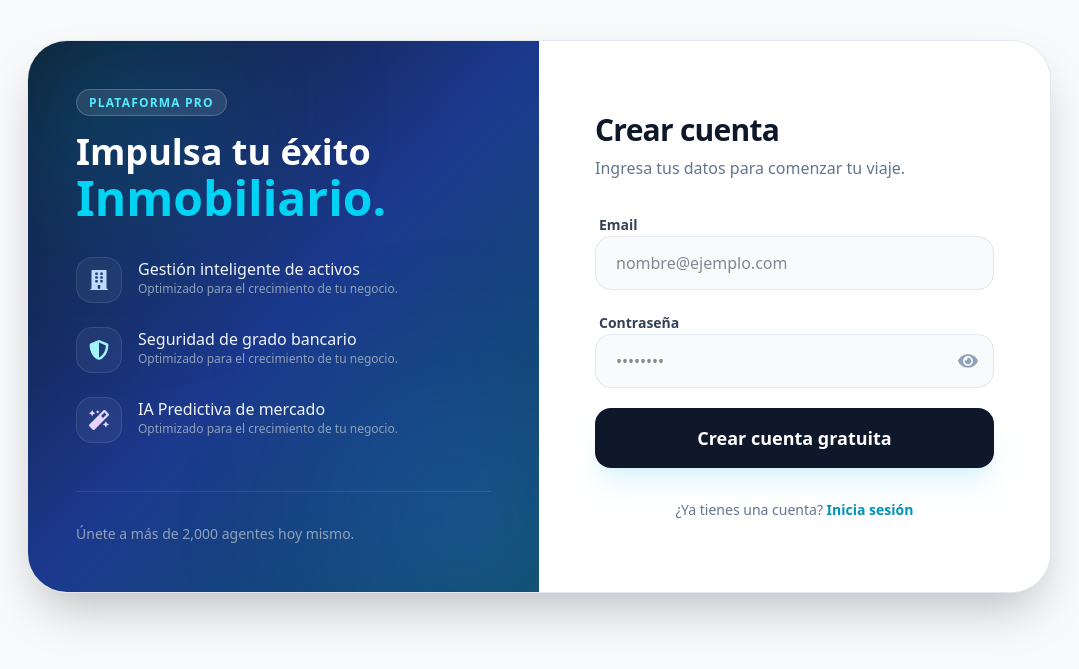
Test: Register Component › debe mostrar error si no viene token
Type "a@a.com" into the field with placeholder "nombre@ejemplo.com". click: point(794, 263)
box: [595,236,994,290]
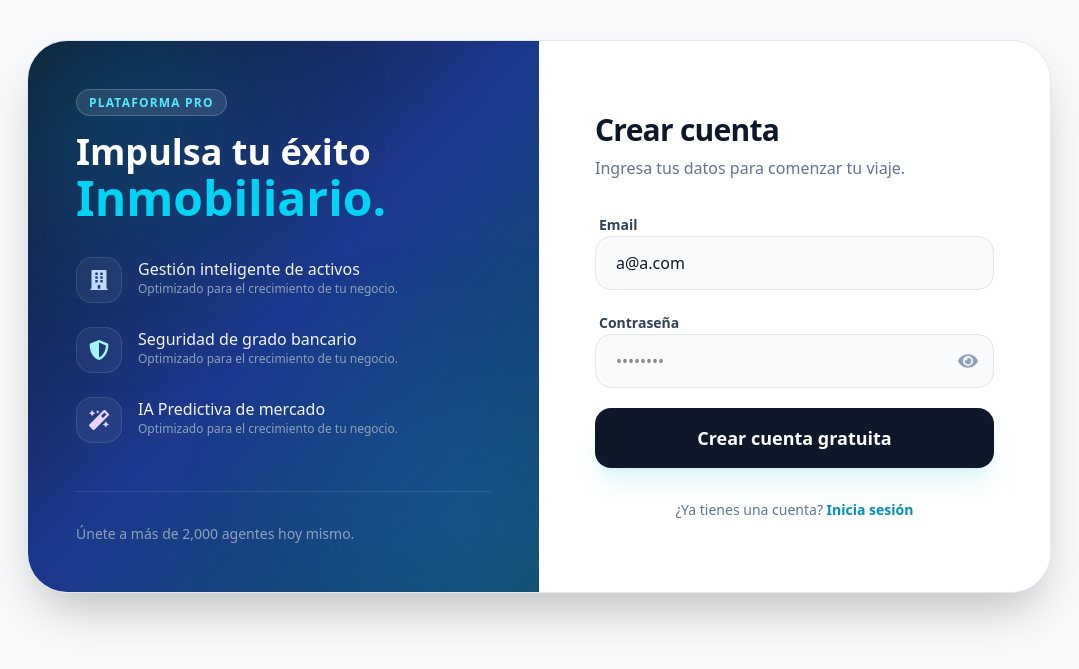
Type "123456" into the password field with placeholder "••••••••". click: point(794, 361)
box: [595,334,994,388]
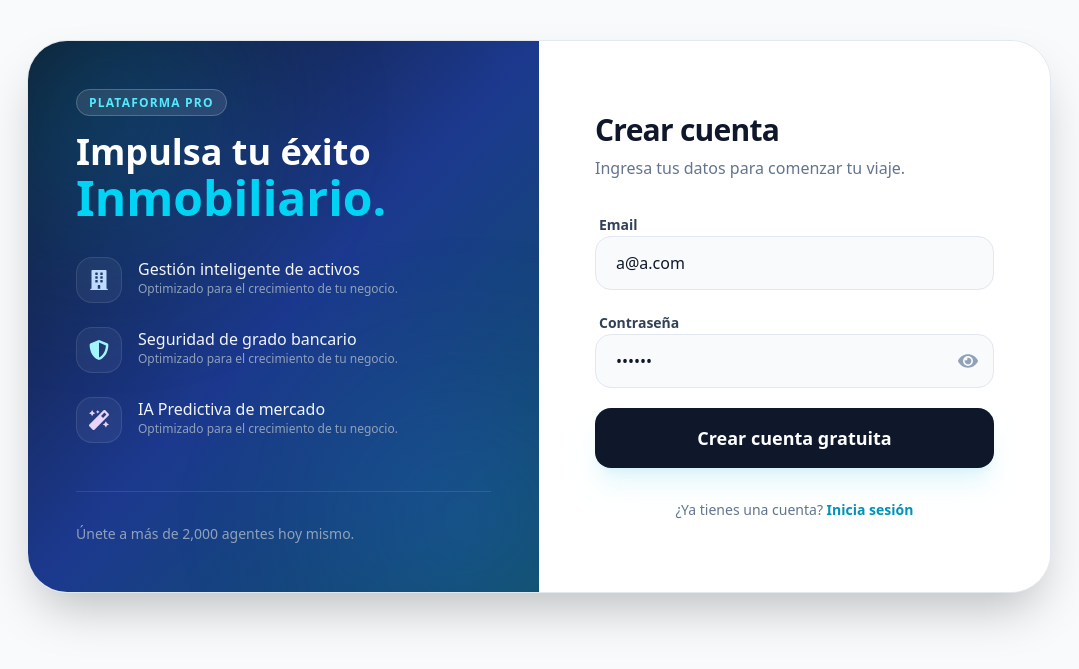
Click the button "Crear cuenta gratuita". click: point(794, 438)
box: [595,408,994,468]
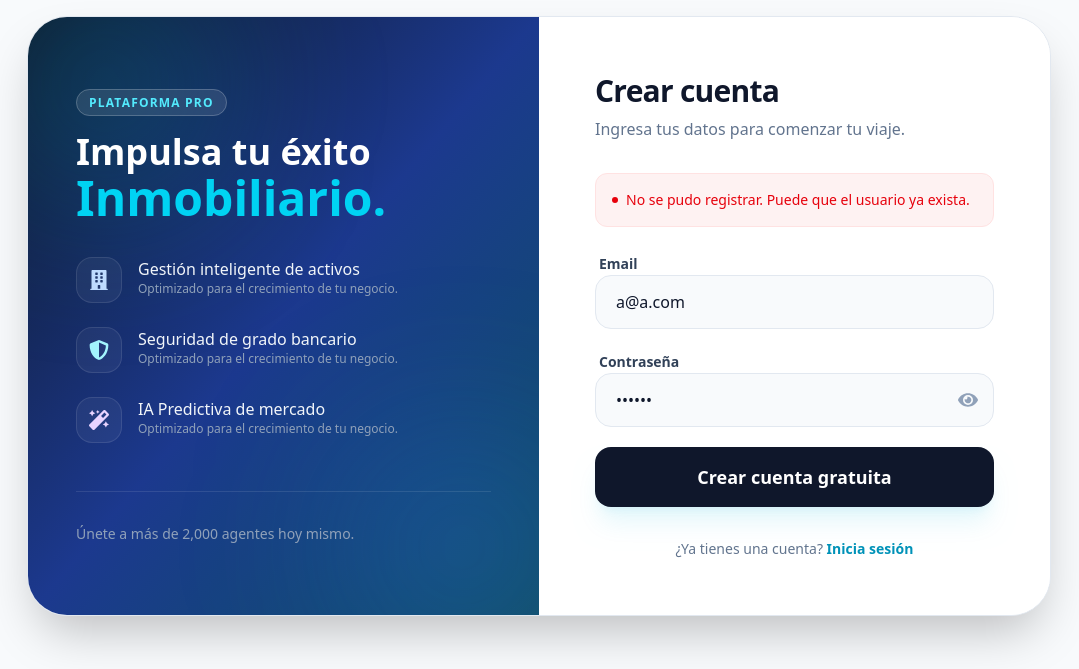
Now the text "No se pudo registrar. Puede que el usuario ya exista." is shown, box [595,173,994,227]
